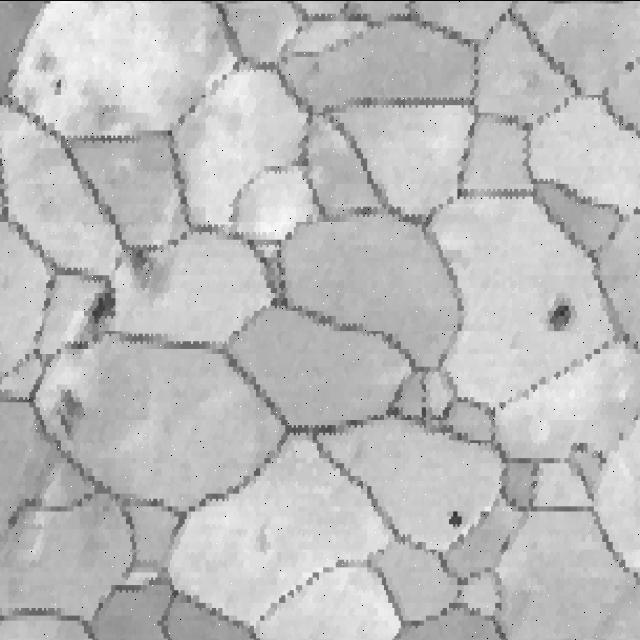good_void: (83, 284, 127, 332), (51, 386, 83, 435), (547, 288, 577, 337), (441, 497, 470, 539), (251, 519, 274, 559), (47, 65, 66, 96), (619, 51, 640, 79), (437, 396, 457, 423), (625, 186, 640, 214)
